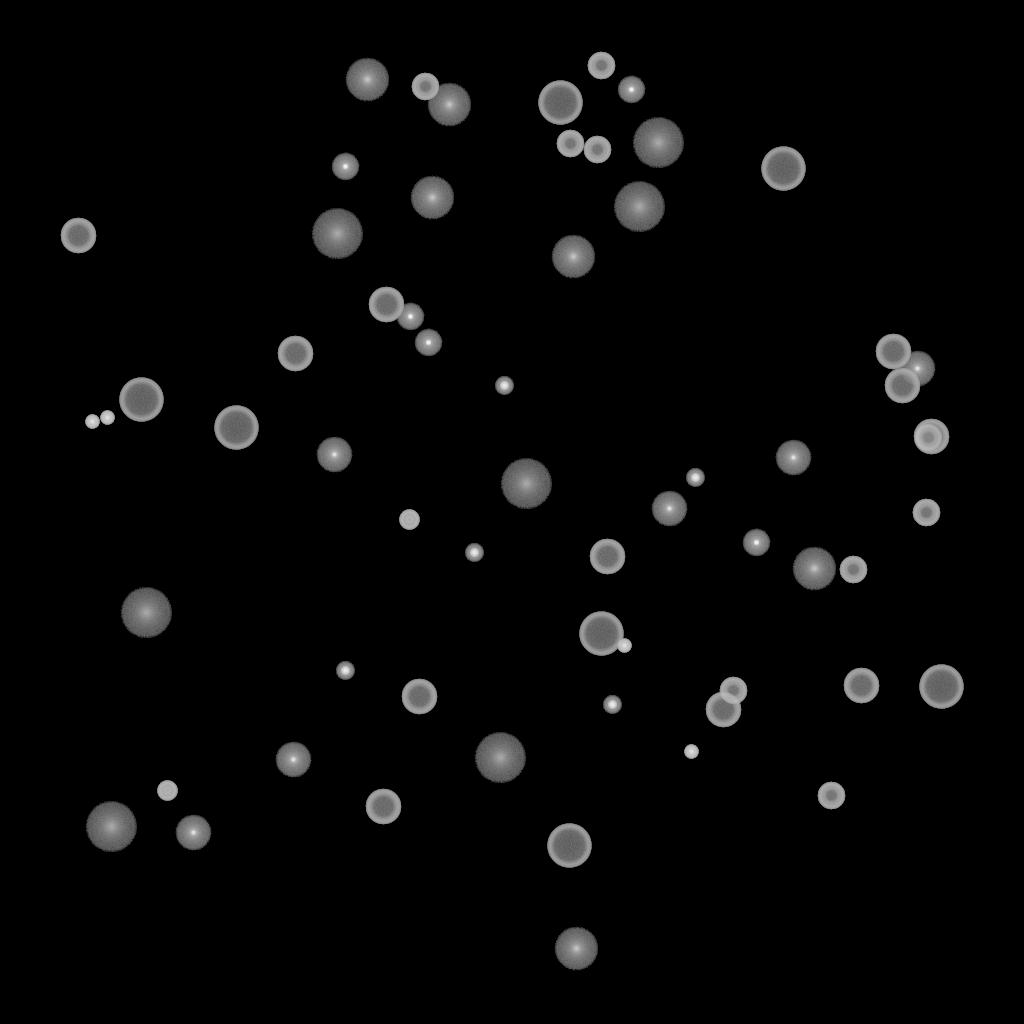depth:-10: (617, 76, 645, 104), (742, 529, 770, 557), (414, 329, 442, 357), (331, 153, 359, 181), (396, 303, 424, 331)
depth:-20: (686, 469, 704, 487), (495, 377, 513, 395), (465, 544, 483, 562), (603, 696, 621, 714), (336, 662, 354, 680)
depth:-30: (100, 411, 114, 425), (684, 745, 698, 759), (617, 639, 631, 653), (85, 415, 99, 429)
depth:-40: (399, 510, 419, 530), (157, 781, 177, 801)
depth:-50: (914, 424, 942, 452), (817, 782, 845, 810), (411, 73, 439, 101), (912, 499, 940, 527), (587, 52, 615, 80), (583, 136, 611, 164), (719, 677, 747, 705), (556, 130, 584, 158), (839, 556, 867, 584)
depth:-60: (589, 539, 625, 575), (875, 334, 911, 370), (884, 368, 920, 404), (368, 287, 404, 323), (365, 789, 401, 825), (843, 668, 879, 704), (60, 218, 96, 254), (401, 679, 437, 715), (705, 692, 741, 728), (913, 419, 949, 455), (277, 336, 313, 372)
depth:-70: (214, 406, 258, 450), (919, 665, 963, 709), (579, 612, 623, 656), (119, 378, 163, 422), (547, 824, 591, 868), (538, 81, 582, 125), (761, 147, 805, 191)
depth:0: (775, 440, 811, 476), (316, 437, 352, 473), (275, 742, 311, 778), (175, 815, 211, 851), (651, 491, 687, 527), (899, 351, 935, 387)
depth:10: (427, 83, 471, 127), (792, 547, 836, 591), (410, 176, 454, 220), (551, 235, 595, 279), (345, 58, 389, 102), (554, 927, 598, 971)
depth:20: (613, 182, 665, 232), (632, 118, 684, 168), (120, 588, 172, 638), (500, 459, 552, 509), (85, 802, 137, 852), (474, 733, 526, 783), (311, 209, 363, 259)
